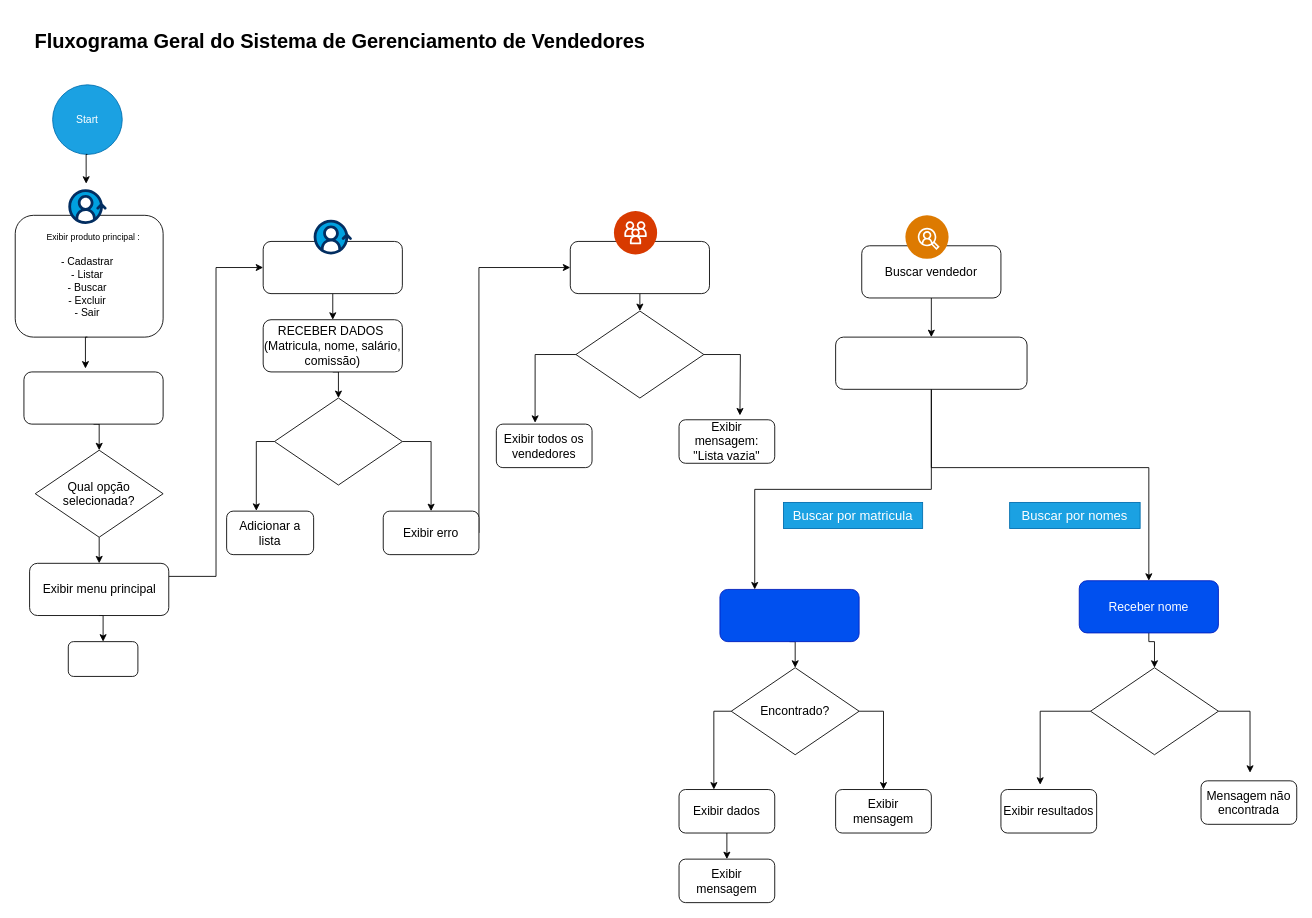
This 1312x918 diagram has some shape labels left out. The shapes that lost their labels are listed below. From the top down, each one's centre as x and y in pixels, then its label:
At point 332,267: "Cadastrar vendedor".
At point 639,267: "Listar vendedores".
At point 639,354: "Lista vazia?".
At point 931,362: "ESCOLHER CRITÉRIO (geral, matricula, nome)".
At point 93,397: "Ler a opção do usuário".
At point 338,441: "Verificar se a matricula já existe".
At point 789,615: "Receber Matricula".
At point 102,658: "Sair".
At point 1154,711: "Lista filtrada vazia?".
